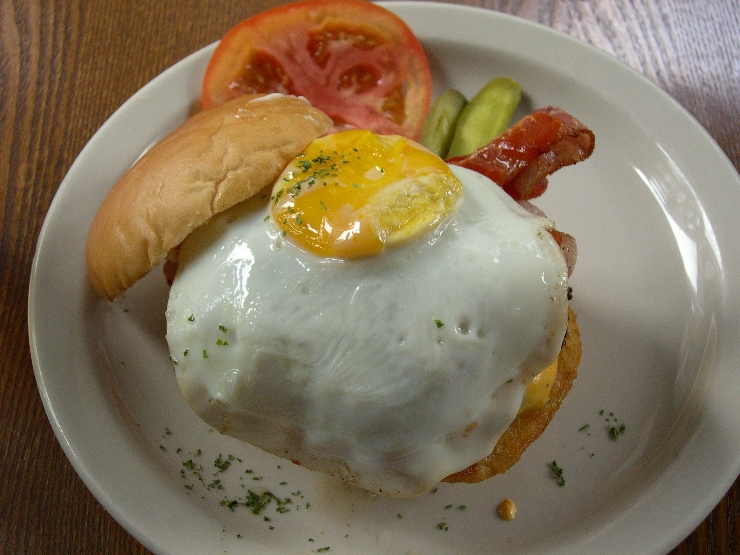fried egg: (227, 163, 536, 435)
slice of bread: (99, 137, 327, 190)
